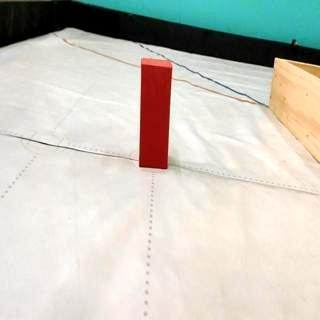redbox: (140, 56, 172, 170)
